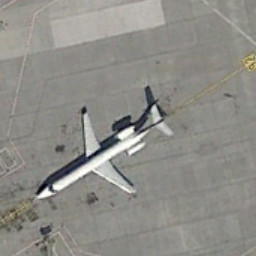Airplane: (19, 86, 184, 211)
